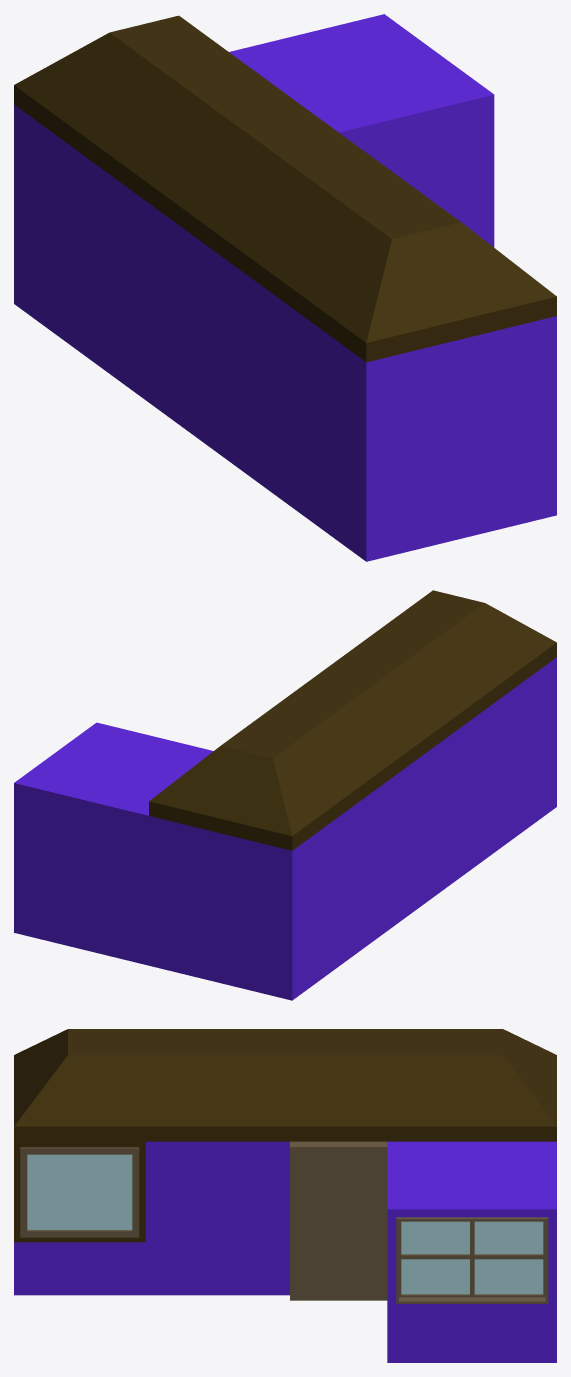
File: Gouse Purple.fbx
The picture shows the model from 3 angles, top to bottom: view 1: azimuth 30°, elevation 25°; view 2: azimuth 150°, elevation 25°; view 3: azimuth 270°, elevation 25°; orthographic projection. The views are drawn at different scales.
Visible parts, largest first — view 1: Cube.002; view 2: Cube.002; view 3: Cube.002.
Boxes of the visible parts, x1,y1,x2,y2 form: Cube.002: [14, 14, 556, 561]; Cube.002: [14, 590, 556, 1000]; Cube.002: [14, 1029, 556, 1362].
Bounding box in the file's own units: 7607 × 5464 × 12368.
